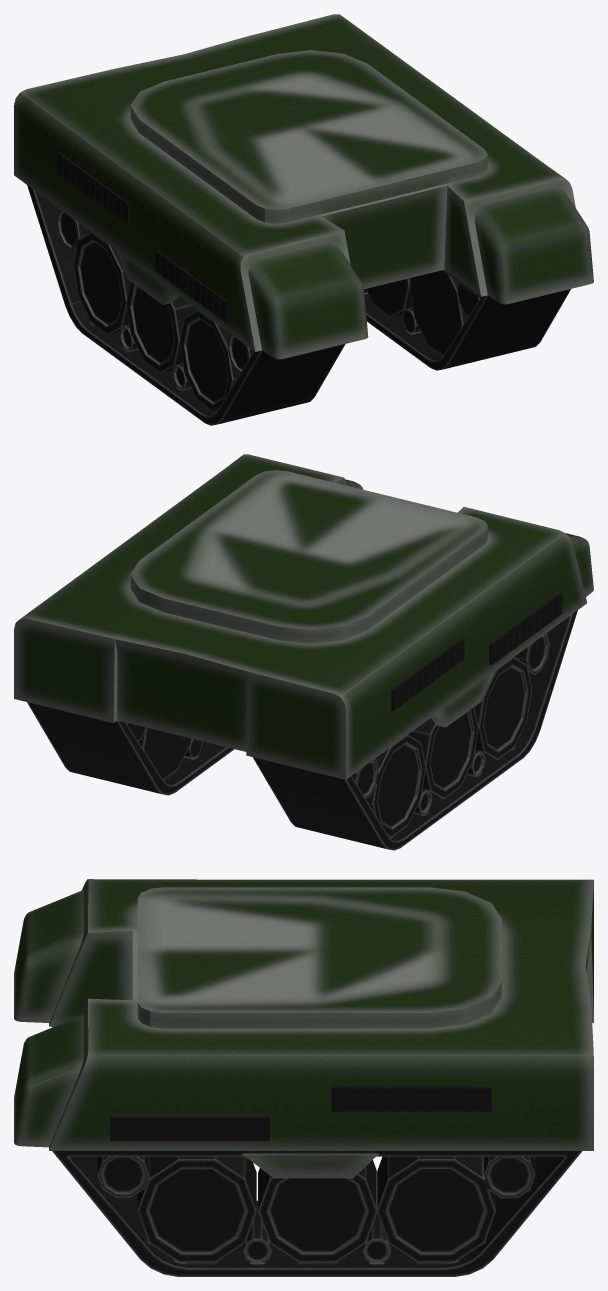
File: tank_base.glb
3 renders of one model, top to bottom at view 1: azimuth 30°, elevation 25°; view 2: azimuth 150°, elevation 25°; view 3: azimuth 270°, elevation 25°, orthographic. The views are drawn at different scales.
Visible parts, largest first — view 1: Tank, Tank.002, Tank.011, Tank.012, Tank.010, Tank.019, Tank.030, Tank.031, Tank.017, Tank.001, Tank.013, Tank.009; view 2: Tank, Tank.002, Tank.012, Tank.011, Tank.010, Tank.030, Tank.031, Tank.018, Tank.001, Tank.009, Tank.013; view 3: Tank, Tank.002, Tank.019, Tank.018, Tank.017, Tank.029, Tank.028, Tank.008, Tank.020, Tank.016, Tank.022, Tank.021.
Boxes of the visible parts, box(x1,y1,x2,y2) form: Tank: box(14, 14, 593, 425); Tank.002: box(130, 50, 487, 223); Tank.011: box(73, 232, 130, 334); Tank.012: box(179, 310, 239, 412); Tank.010: box(126, 281, 197, 373); Tank.019: box(409, 270, 467, 355); Tank.030: box(155, 250, 228, 322); Tank.031: box(57, 152, 130, 224); Tank.017: box(366, 278, 412, 317); Tank.001: box(116, 250, 178, 304); Tank.013: box(56, 209, 91, 250); Tank.009: box(227, 334, 253, 373); Tank: box(14, 454, 593, 850); Tank.002: box(130, 470, 487, 643); Tank.012: box(474, 657, 531, 759); Tank.011: box(366, 734, 425, 837); Tank.010: box(408, 707, 478, 798); Tank.030: box(489, 593, 562, 665); Tank.031: box(391, 638, 464, 711); Tank.018: box(138, 728, 191, 779); Tank.001: box(431, 671, 494, 727); Tank.009: box(514, 633, 549, 674); Tank.013: box(352, 759, 378, 798); Tank: box(14, 879, 593, 1276); Tank.002: box(137, 887, 501, 1028); Tank.019: box(137, 1156, 256, 1262); Tank.018: box(377, 1156, 495, 1262); Tank.017: box(258, 1160, 377, 1262); Tank.029: box(331, 1087, 491, 1111); Tank.028: box(110, 1117, 269, 1141); Tank.008: box(242, 1154, 378, 1178); Tank.020: box(483, 1156, 535, 1198); Tank.016: box(97, 1156, 148, 1197); Tank.022: box(243, 1200, 271, 1263); Tank.021: box(363, 1213, 391, 1263).
Size of the model in its own units: 1.66 by 0.9992 by 2.2.
2 materials, 2 textured.
